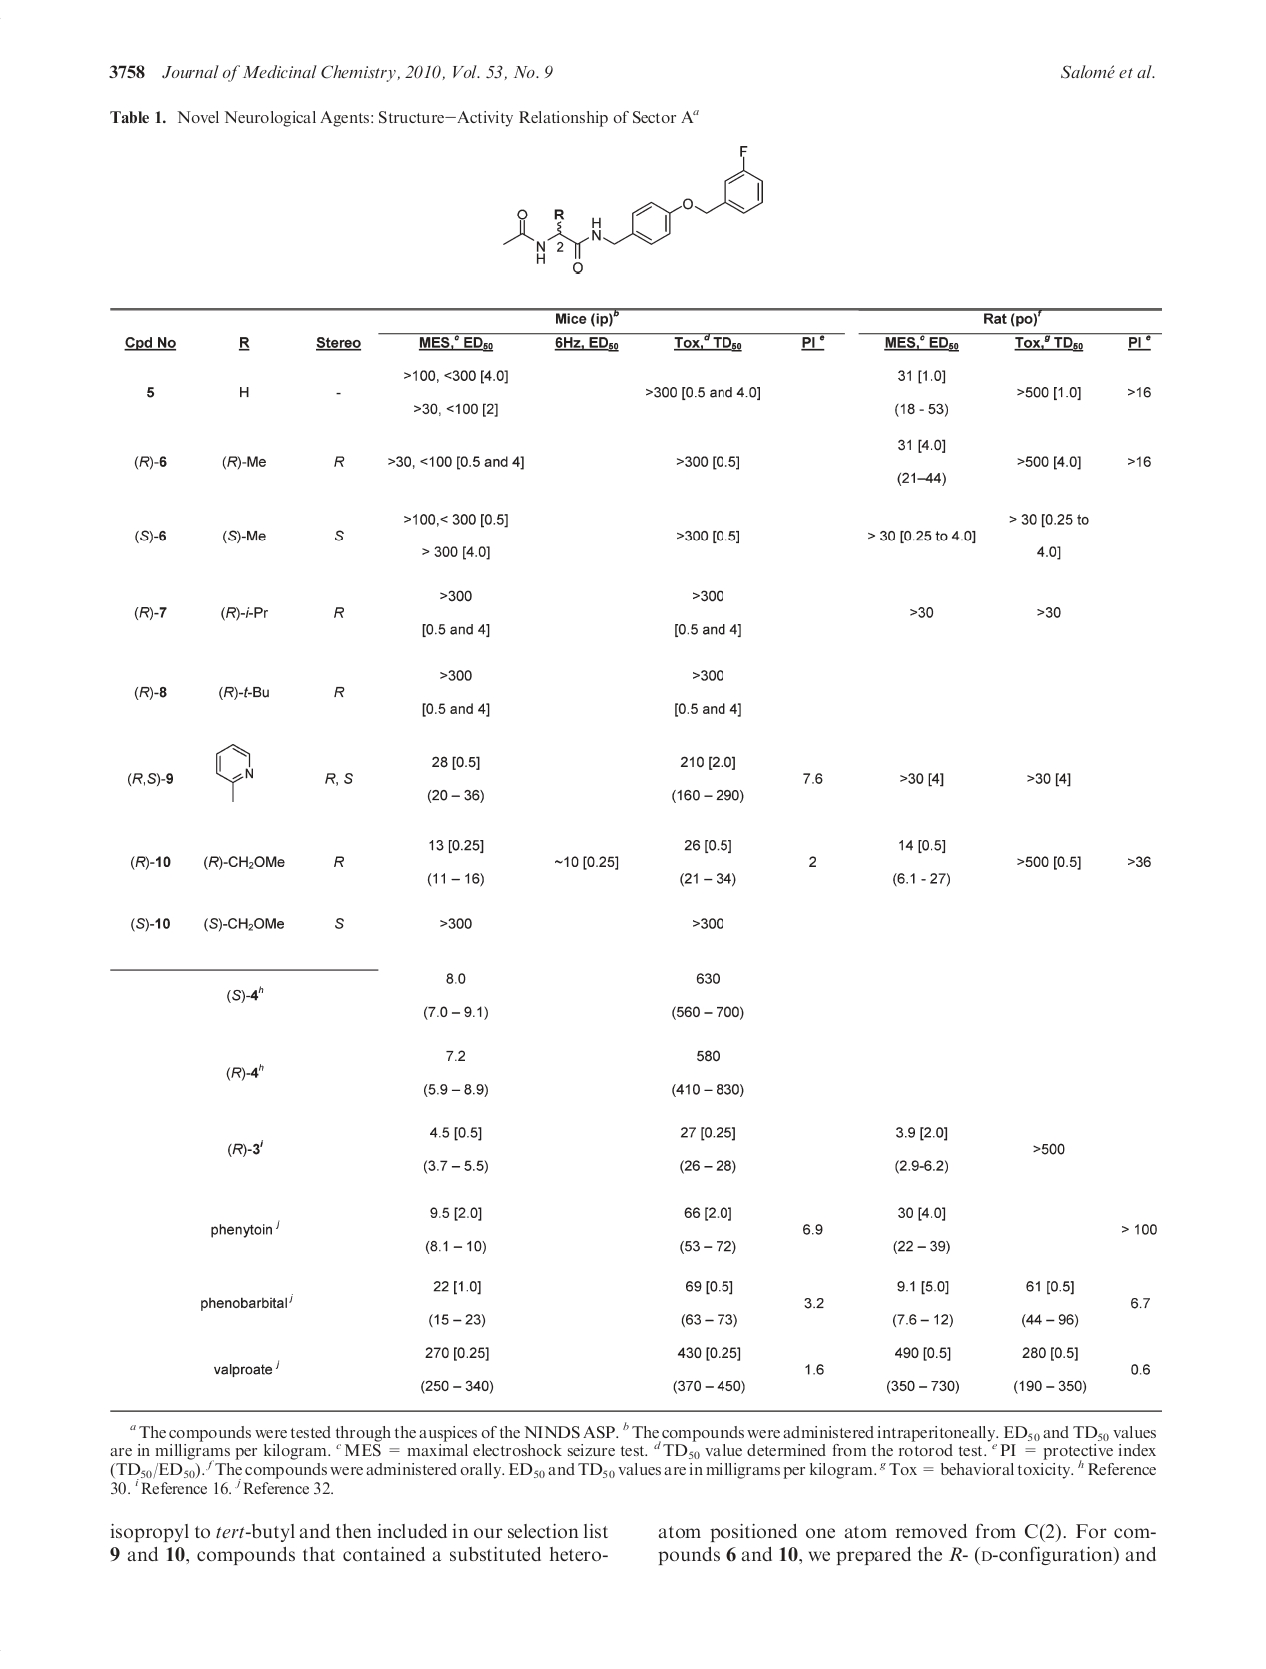exist_molecular: (501, 141, 771, 274), (211, 741, 263, 803)
